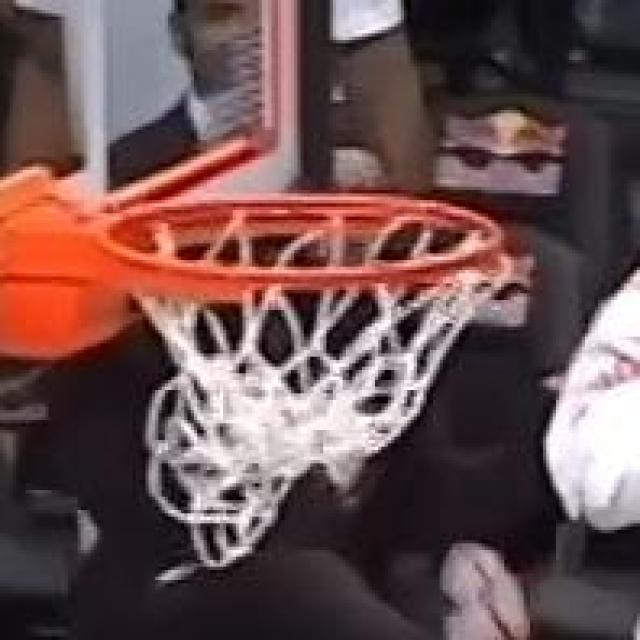hoop: (152, 170, 512, 506)
